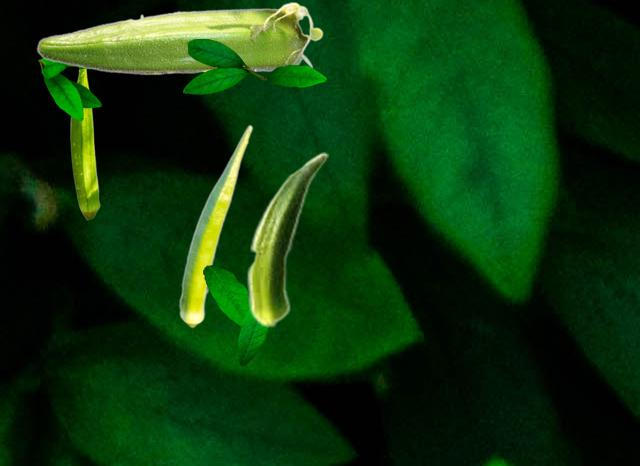okra: (36, 1, 322, 74), (179, 124, 252, 327), (246, 152, 327, 327), (70, 69, 99, 219)
